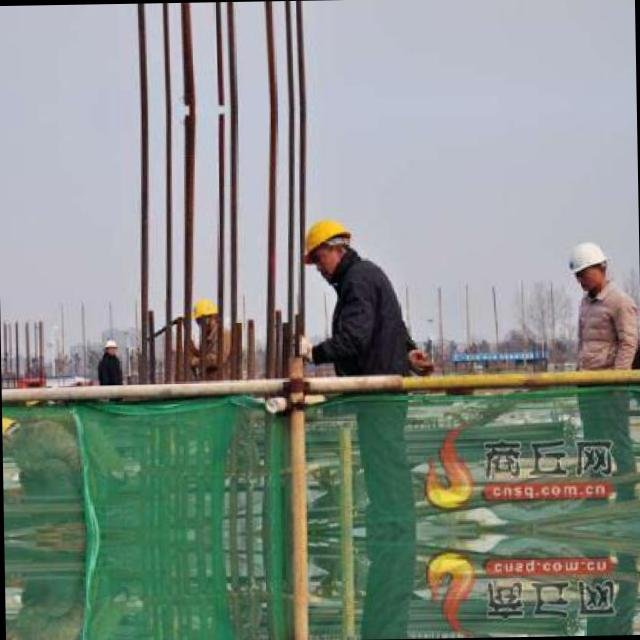helmet: (300, 212, 354, 274), (562, 234, 612, 295), (187, 292, 226, 334), (98, 332, 120, 354)
